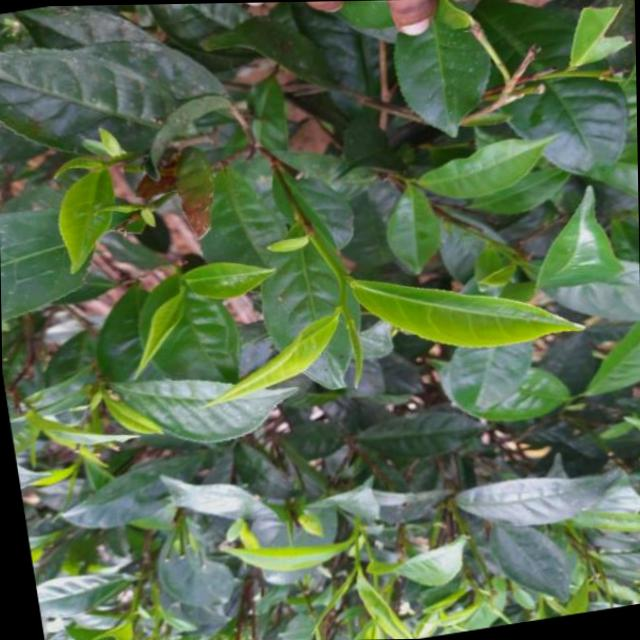Stem: (339, 295, 345, 305)
